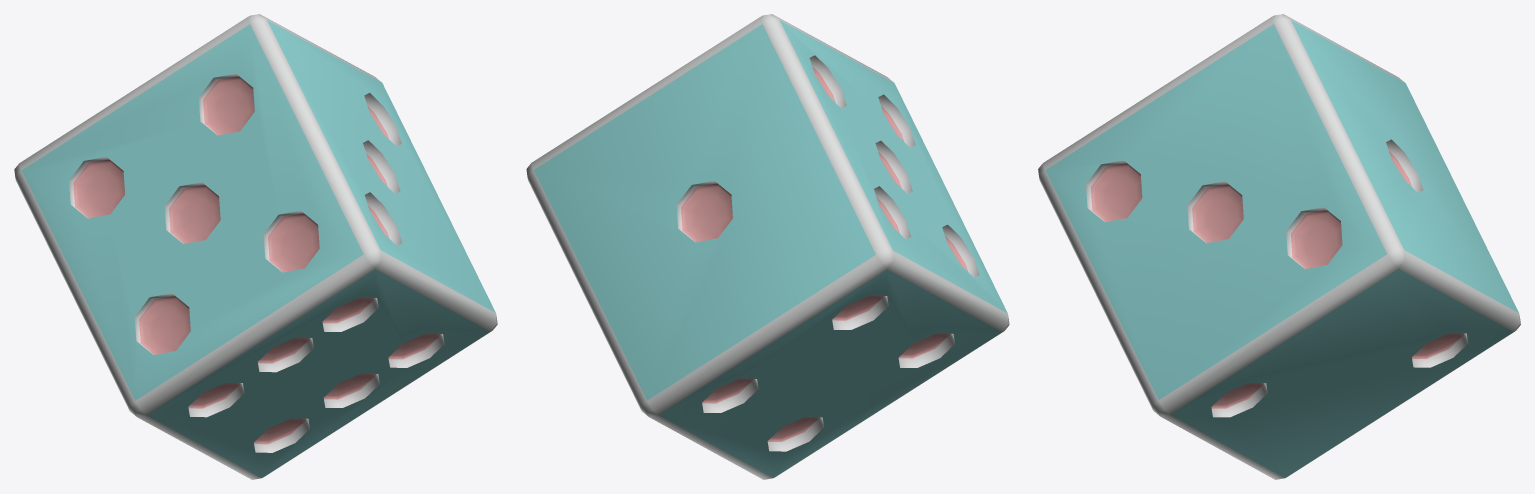
Rendered from human-toys-dice_v2.fbx.
3 views of the same model, side by side, from view 1: azimuth 30°, elevation 25°; view 2: azimuth 150°, elevation 25°; view 3: azimuth 270°, elevation 25° (orthographic).
Parts seen in each view (by area): view 1: Dice_v2; view 2: Dice_v2; view 3: Dice_v2.
Boxes of the visible parts, x1=… form: Dice_v2: x1=14, y1=14, x2=497, y2=479; Dice_v2: x1=526, y1=14, x2=1009, y2=479; Dice_v2: x1=1038, y1=14, x2=1520, y2=479.
Bounding box in the file's own units: 0.0133 × 0.016 × 0.0151.
